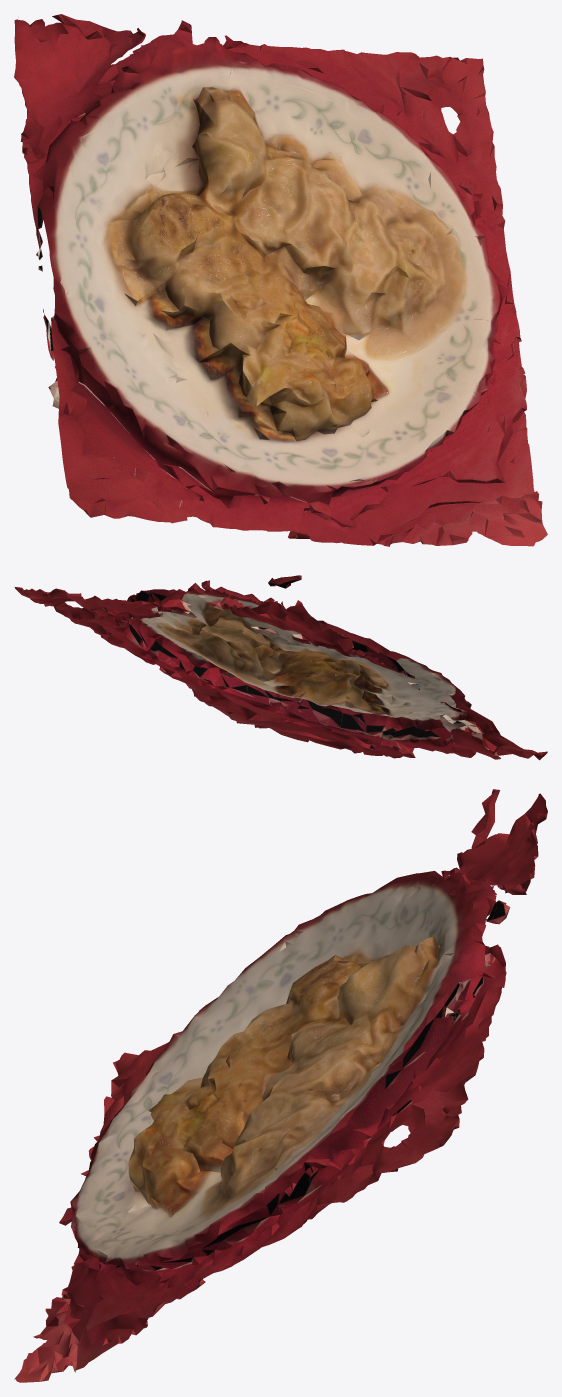
File: chop_suey_dumplings.glb
3 views of the same model, one above another, from view 1: azimuth 30°, elevation 25°; view 2: azimuth 150°, elevation 25°; view 3: azimuth 270°, elevation 25° (orthographic). The views are drawn at different scales.
Visible parts, largest first — view 1: Object_2; view 2: Object_2; view 3: Object_2.
Boxes of the visible parts, x1,y1,x2,y2 form: Object_2: [14, 14, 547, 546]; Object_2: [14, 575, 547, 760]; Object_2: [14, 789, 547, 1382].
Size of the model in its own units: 16.87 by 12.33 by 13.
Materials: 1 (1 with a texture image).
